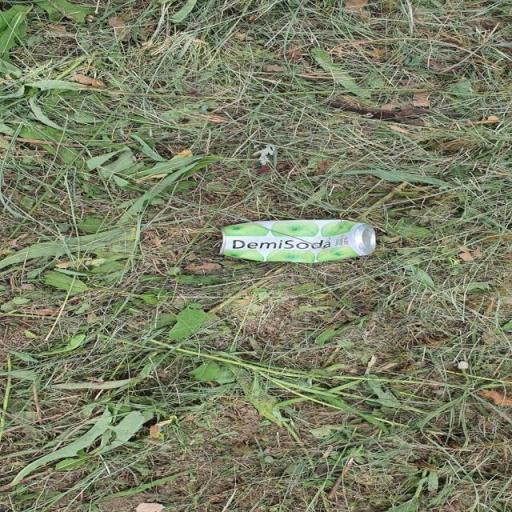metal: (196, 212, 412, 288)
